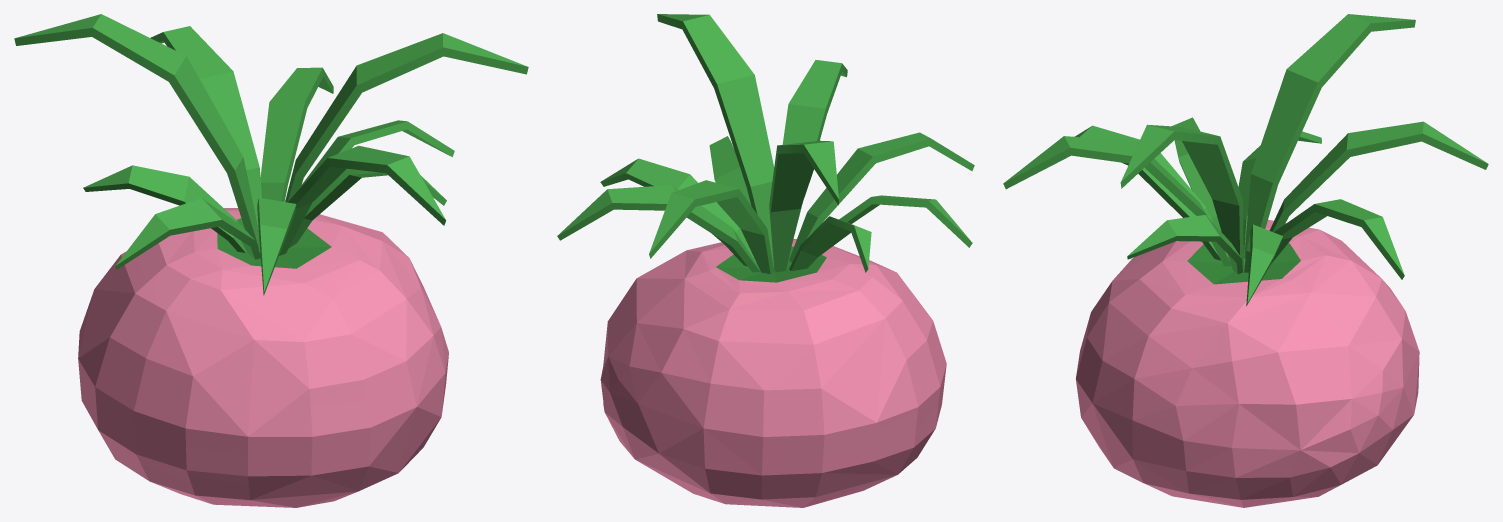
Rendered from fantasy_plant_064.fbx.
3 views of the same model, side by side, from view 1: azimuth 30°, elevation 25°; view 2: azimuth 150°, elevation 25°; view 3: azimuth 270°, elevation 25° (orthographic). The views are drawn at different scales.
Parts seen in each view (by area): view 1: fantasy_plant.064; view 2: fantasy_plant.064; view 3: fantasy_plant.064.
Boxes of the visible parts, x1,y1,x2,y2 form: fantasy_plant.064: (14, 14, 528, 507); fantasy_plant.064: (557, 14, 974, 507); fantasy_plant.064: (1003, 14, 1488, 507).
Size of the model in its own units: 104 by 113 by 123.
Materials: 1 (1 with a texture image).
